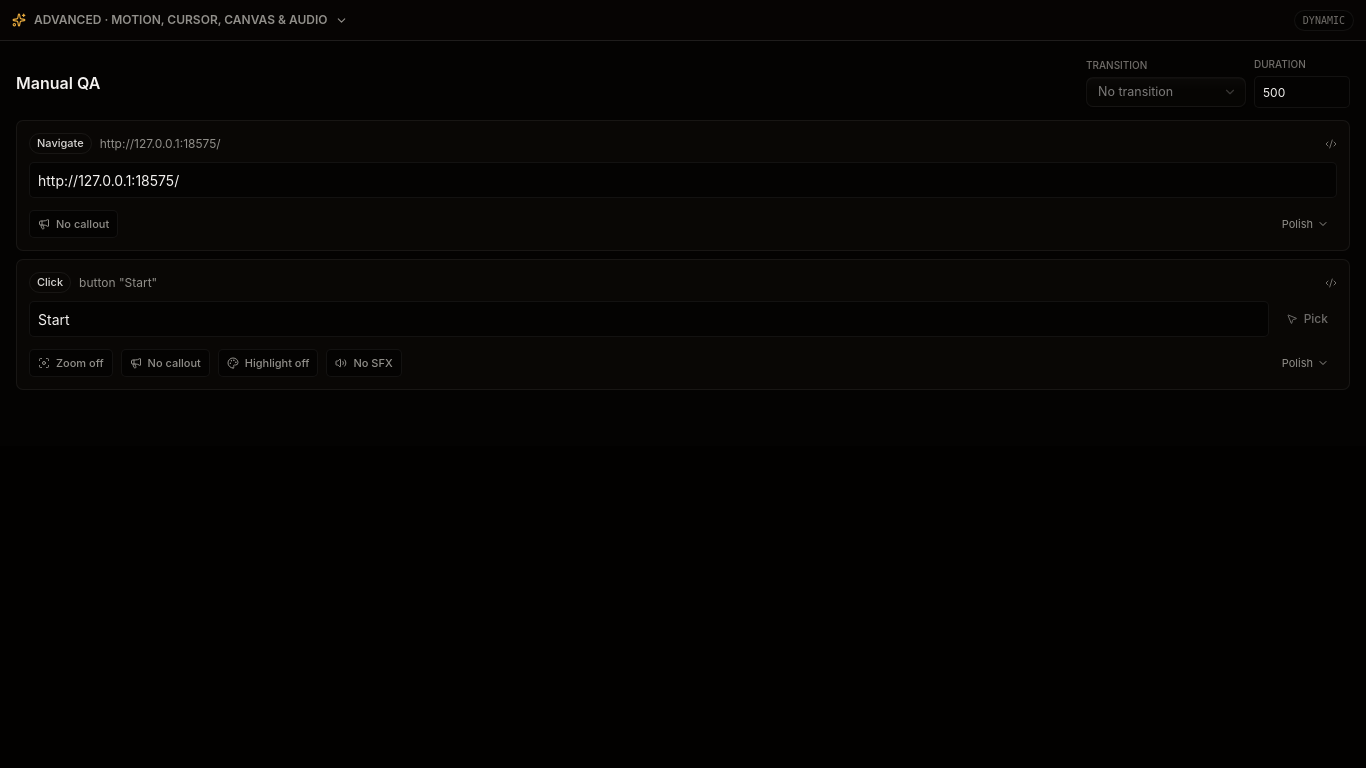
Test: StoryBuilder UI/code synchronization › disables motion controls while the simulator is active
Click the button "Advanced · Motion, Cursor, Canvas & Audio" at (181, 20), box [34,11,1286,29]
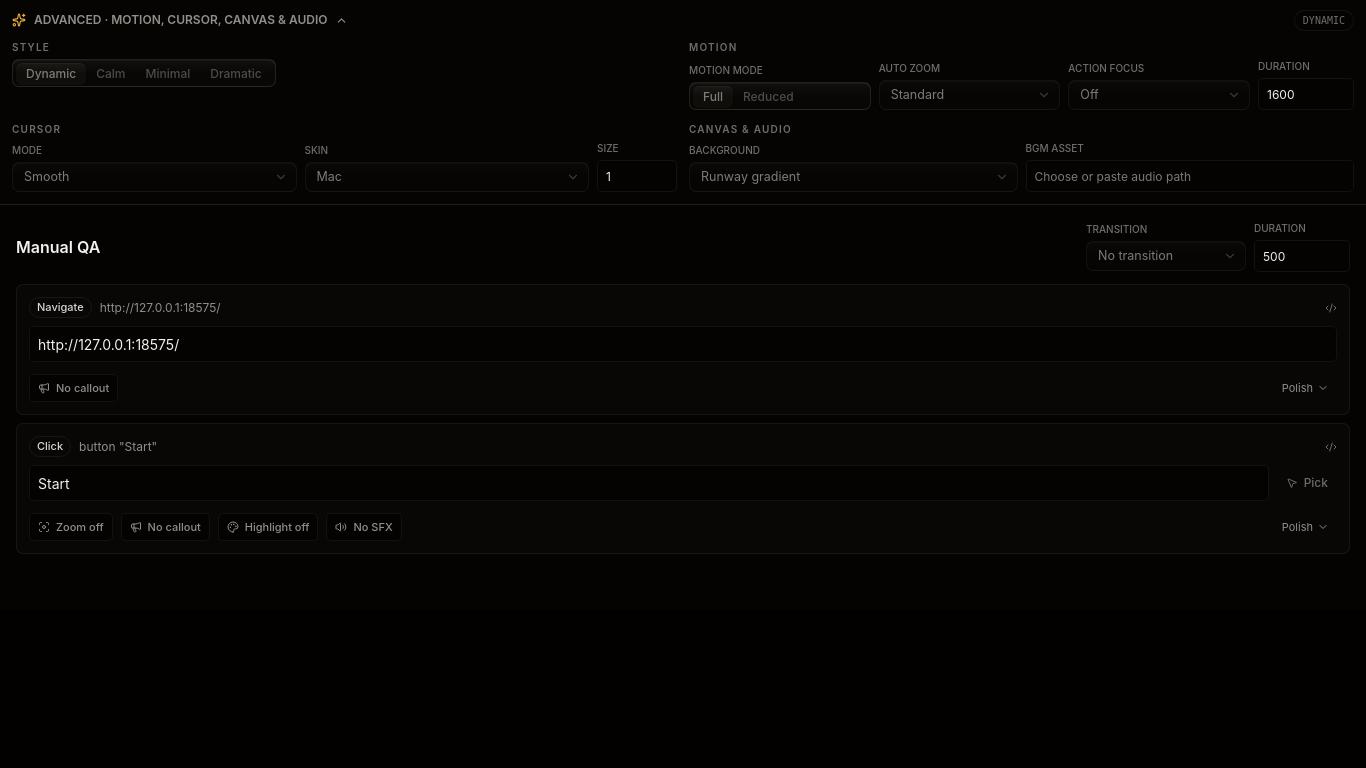
Now the number field named "Auto zoom duration" is disabled, box [1258,78,1354,110]
